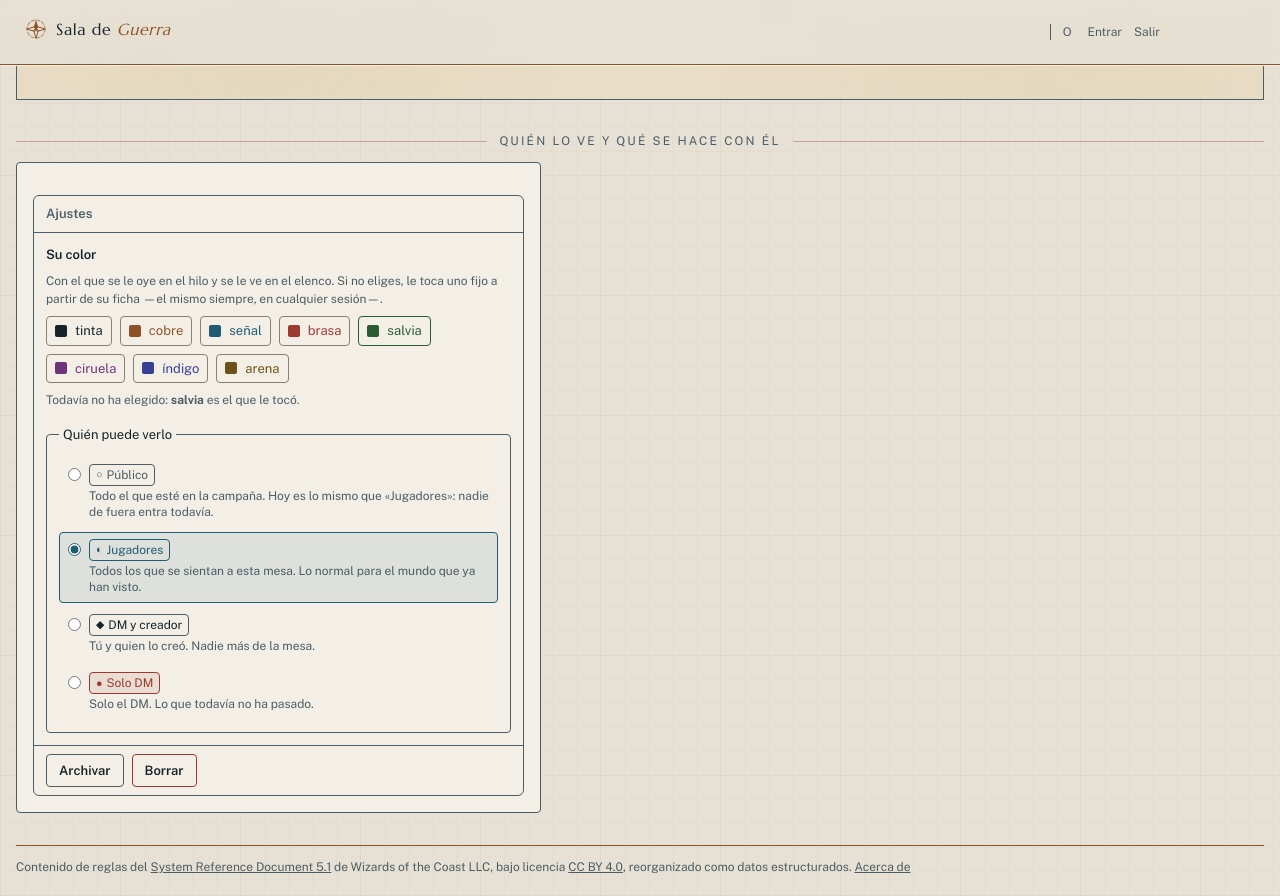
it: CharacterDetailPage — un solo camino de edición › un rechazo del servidor devuelve el control a lo que de verdad hay y explica el motivo en línea
(page scrolled)
Click the radio button labelled "● Solo DM Solo el DM. Lo que todavía no ha pasado." at (74, 682), box 68,676 -> 81,689
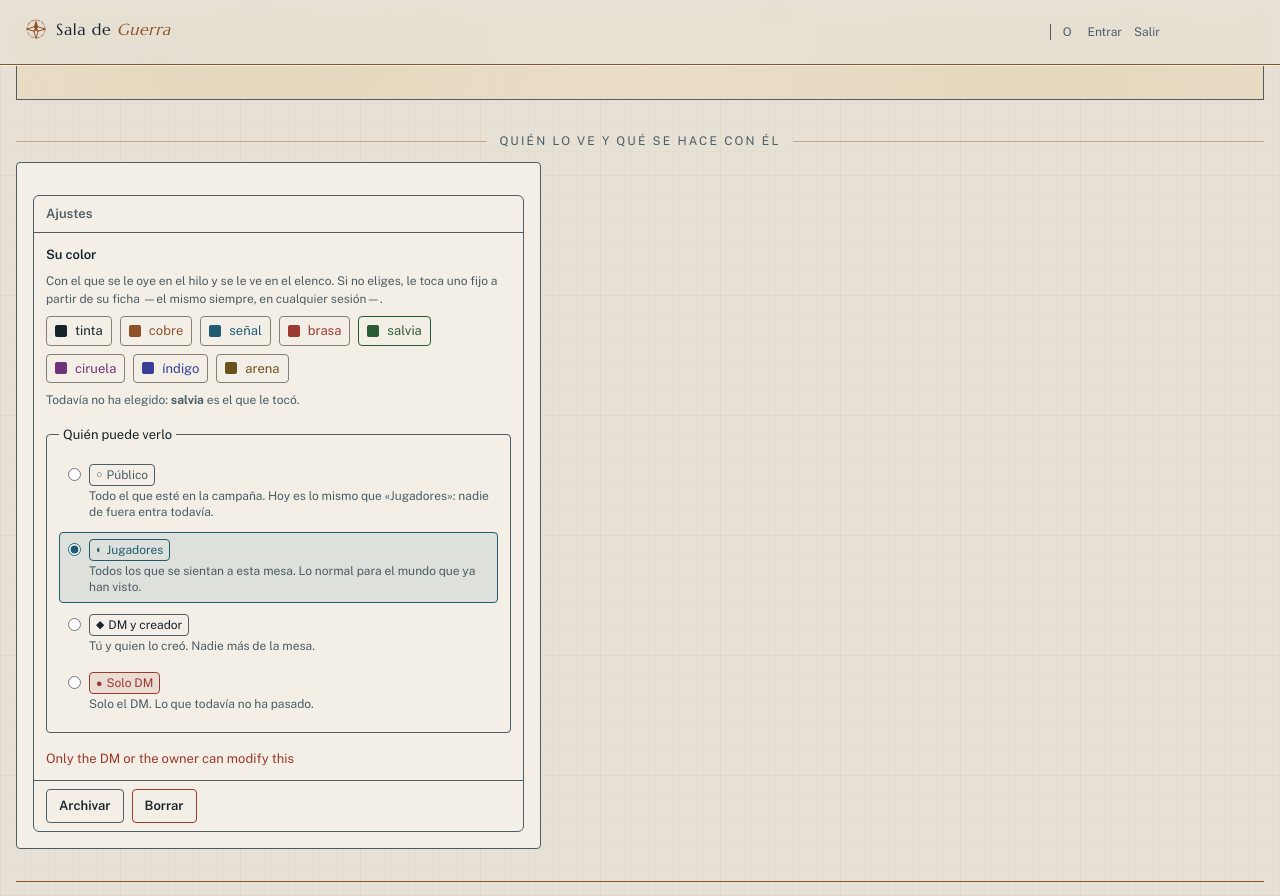
Expected: the radio button labelled "Todos los que se sientan a esta mesa" is checked, 68,542 -> 81,556
Expected: the text "Only the DM or the owner can modify this" is shown, 46,750 -> 294,766
